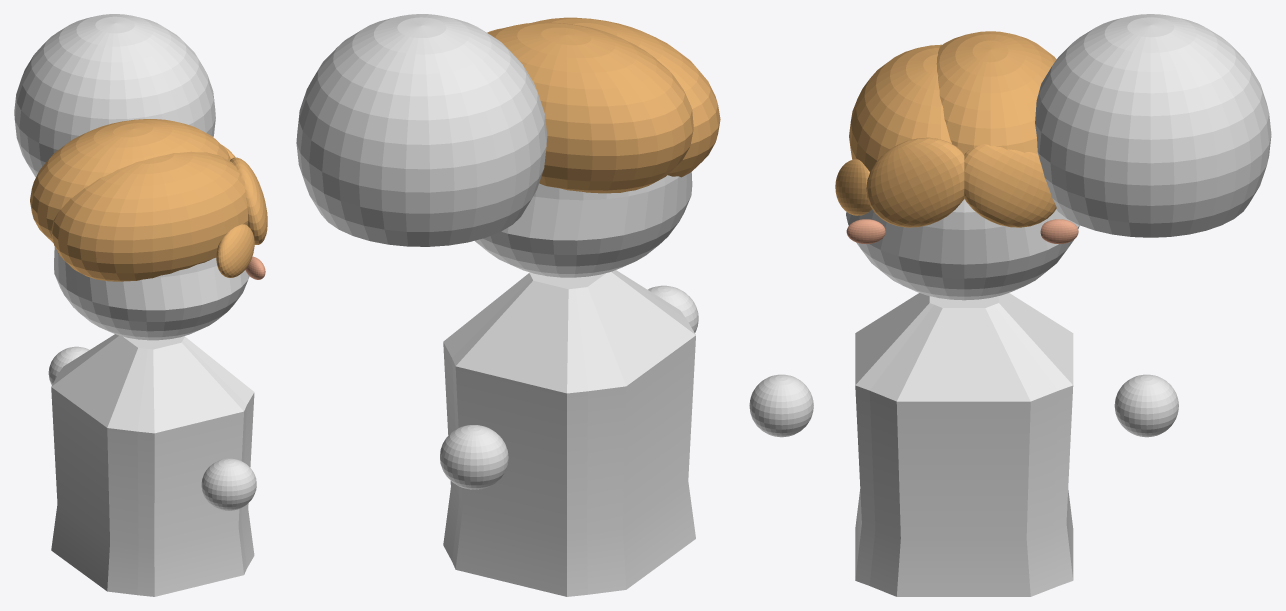
File: Terry.fbx
3 views of the same model, side by side, from view 1: azimuth 30°, elevation 25°; view 2: azimuth 150°, elevation 25°; view 3: azimuth 270°, elevation 25° (orthographic). The views are drawn at different scales.
Parts seen in each view (by area): view 1: Cube, Sphere.008, Sphere.015, Sphere, Sphere.014, Sphere.001, Sphere.020, Sphere.019; view 2: Cube, Sphere.008, Sphere.014, Sphere, Sphere.015, Sphere.001; view 3: Cube, Sphere.008, Sphere.019, Sphere, Sphere.014, Sphere.015, Sphere.001, Sphere.004, Sphere.020.
Boxes of the visible parts, x1,y1,x2,y2 form: Cube: [51, 334, 254, 596]; Sphere.008: [14, 14, 215, 177]; Sphere.015: [51, 151, 247, 281]; Sphere: [54, 247, 249, 340]; Sphere.014: [30, 119, 230, 242]; Sphere.001: [48, 346, 256, 510]; Sphere.020: [216, 224, 254, 277]; Sphere.019: [222, 145, 267, 244]; Cube: [443, 270, 695, 596]; Sphere.008: [296, 14, 547, 246]; Sphere.014: [488, 22, 693, 193]; Sphere: [475, 172, 692, 277]; Sphere.015: [532, 17, 720, 177]; Sphere.001: [440, 285, 698, 489]; Cube: [855, 293, 1073, 596]; Sphere.008: [1035, 14, 1271, 237]; Sphere.019: [866, 137, 1056, 227]; Sphere: [846, 199, 1079, 300]; Sphere.014: [936, 31, 1056, 154]; Sphere.015: [849, 44, 964, 200]; Sphere.001: [749, 374, 1178, 437]; Sphere.004: [846, 219, 1078, 243]; Sphere.020: [835, 159, 871, 215].
Size of the model in its own units: 266 by 505 by 432.
